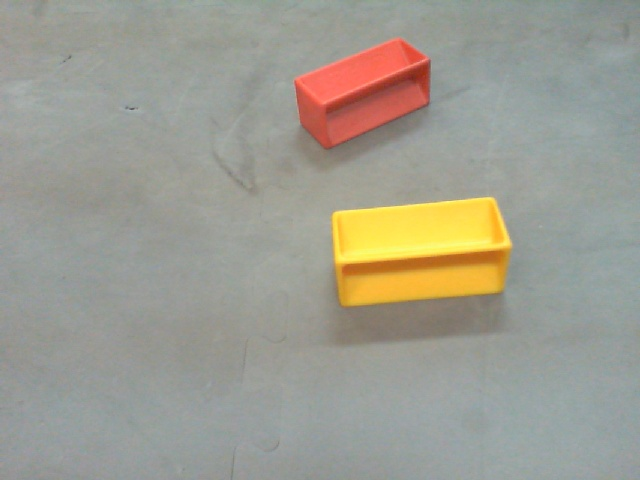RedSample: (294, 36, 432, 150)
YellowSample: (334, 200, 511, 301)
